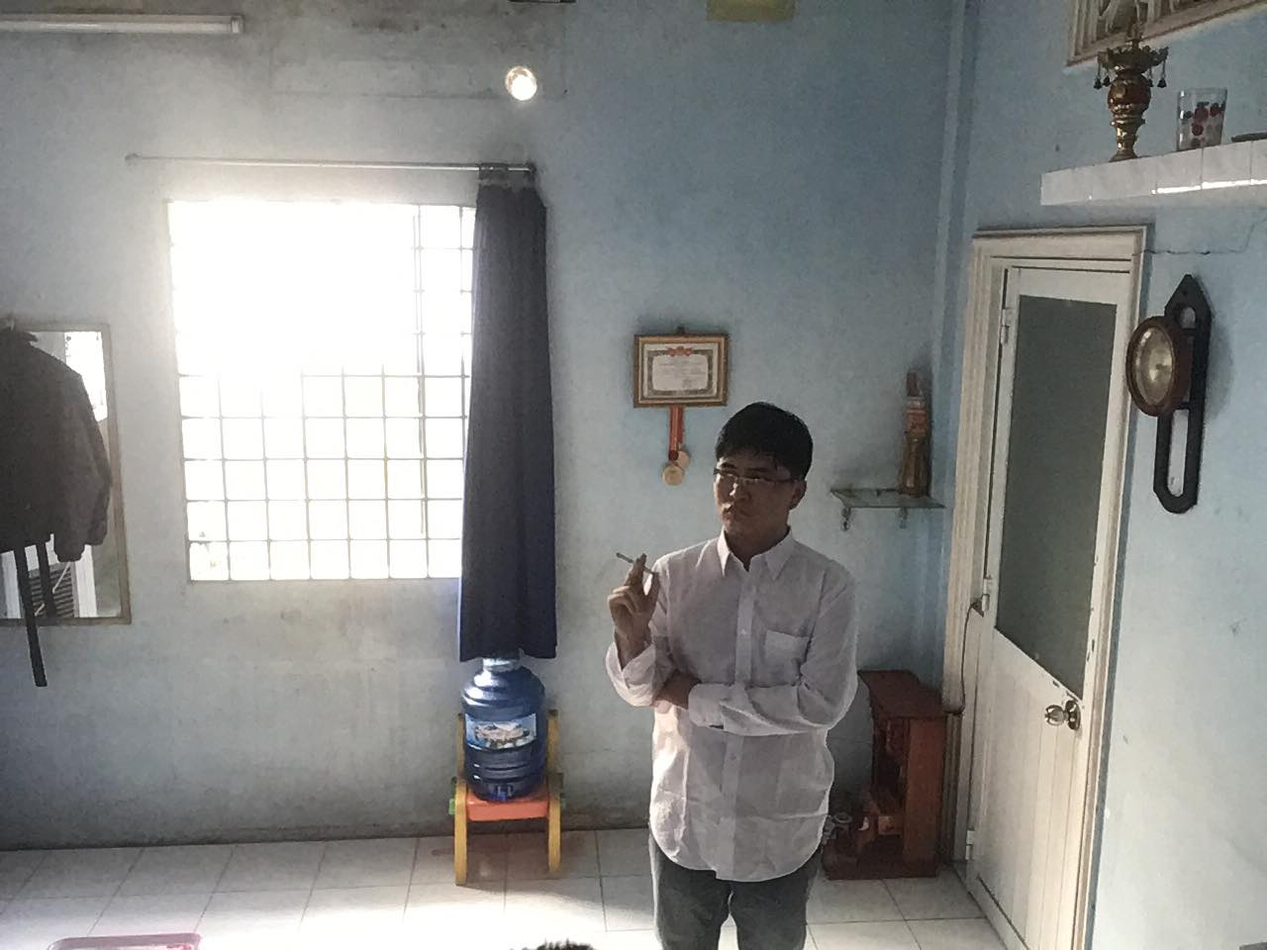cigarette: (615, 548, 634, 565)
person: (587, 400, 887, 950)
